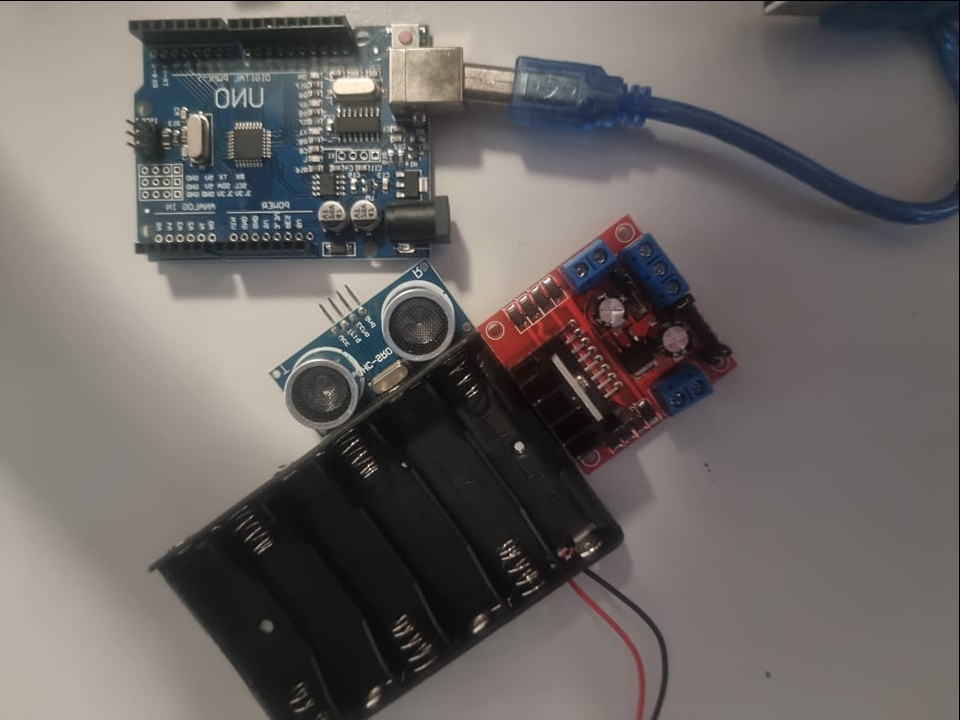BATTERY BOX: (143, 352, 625, 718)
MOTOR: (477, 214, 738, 469)
SENSOR: (270, 257, 465, 433)
UNO R3: (129, 7, 467, 265)
